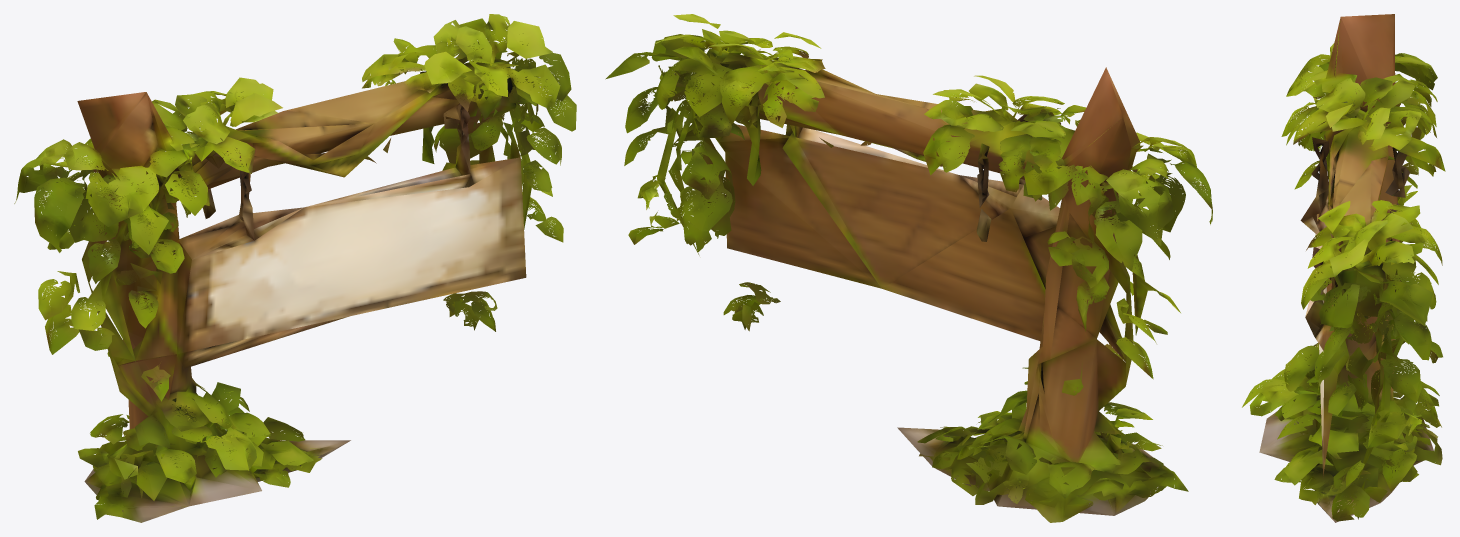
The model's file is base_basic_shaded 1.fbx.
3 renders of one model, left to right at view 1: azimuth 30°, elevation 25°; view 2: azimuth 150°, elevation 25°; view 3: azimuth 270°, elevation 25°, orthographic. The views are drawn at different scales.
Visible parts, largest first — view 1: model; view 2: model; view 3: model.
Part boxes in pixels (x1,y1,x2,y2): model: (14, 14, 576, 522); model: (605, 14, 1212, 522); model: (1242, 14, 1445, 522).
Size of the model in its own units: 185 by 131 by 58.53.
